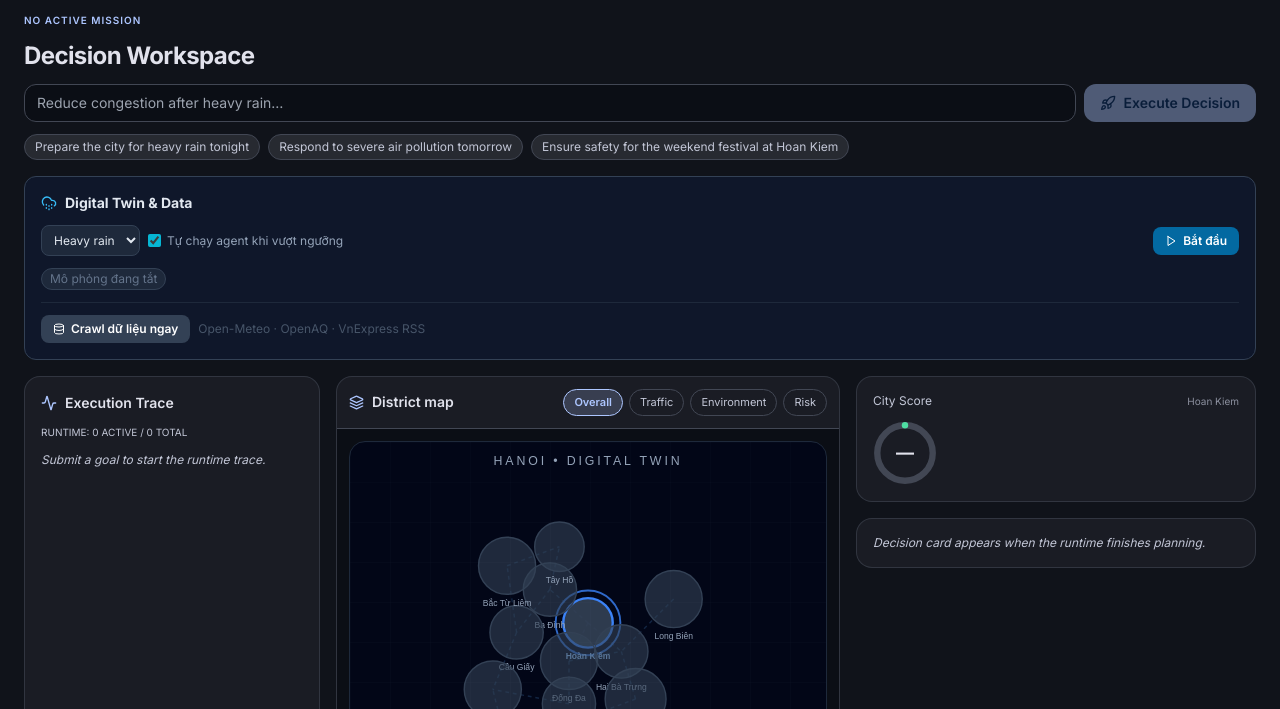
Scenario: DecisionWorkspacePage › opens the evidence modal when the Evidence tile is clicked, and closes it via the close button
Type "Reduce congestion after rain" into the field with placeholder "Reduce congestion after heavy rain…" at coordinates (550, 103), box [24,84,1076,122]
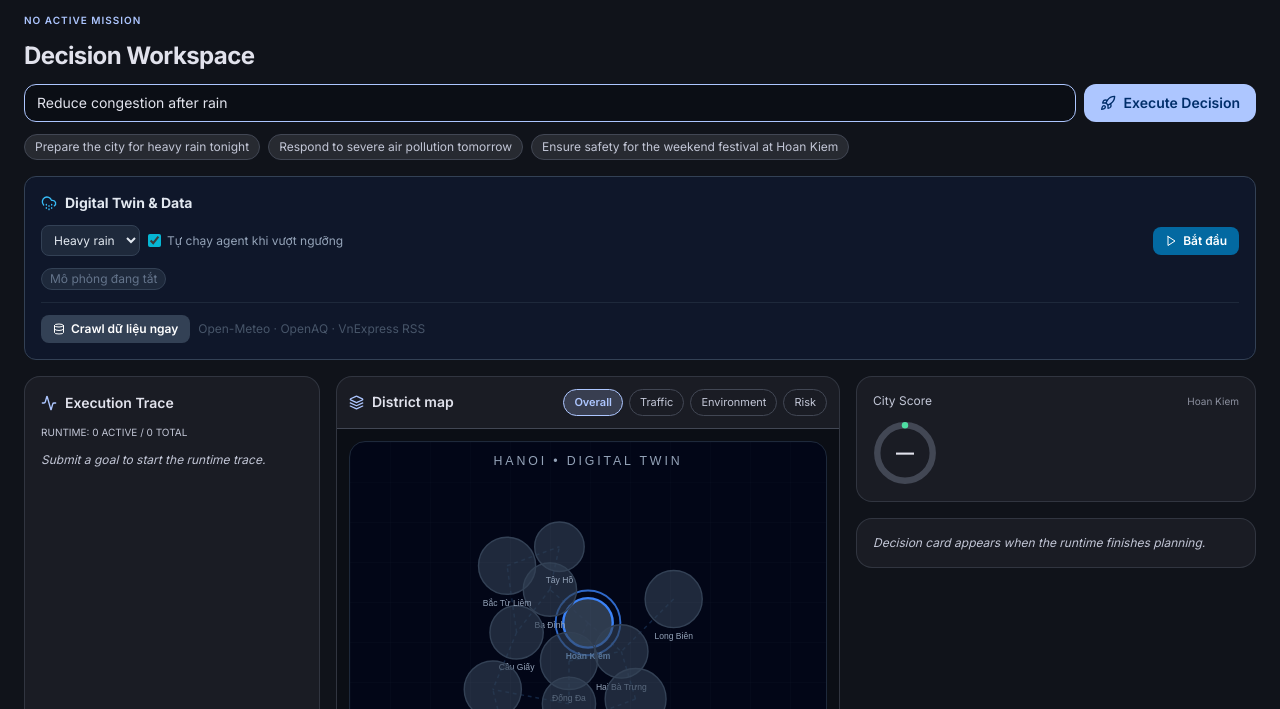
Click the button "Execute Decision" at coordinates (1170, 103), box [1084,84,1256,122]
(page scrolled)
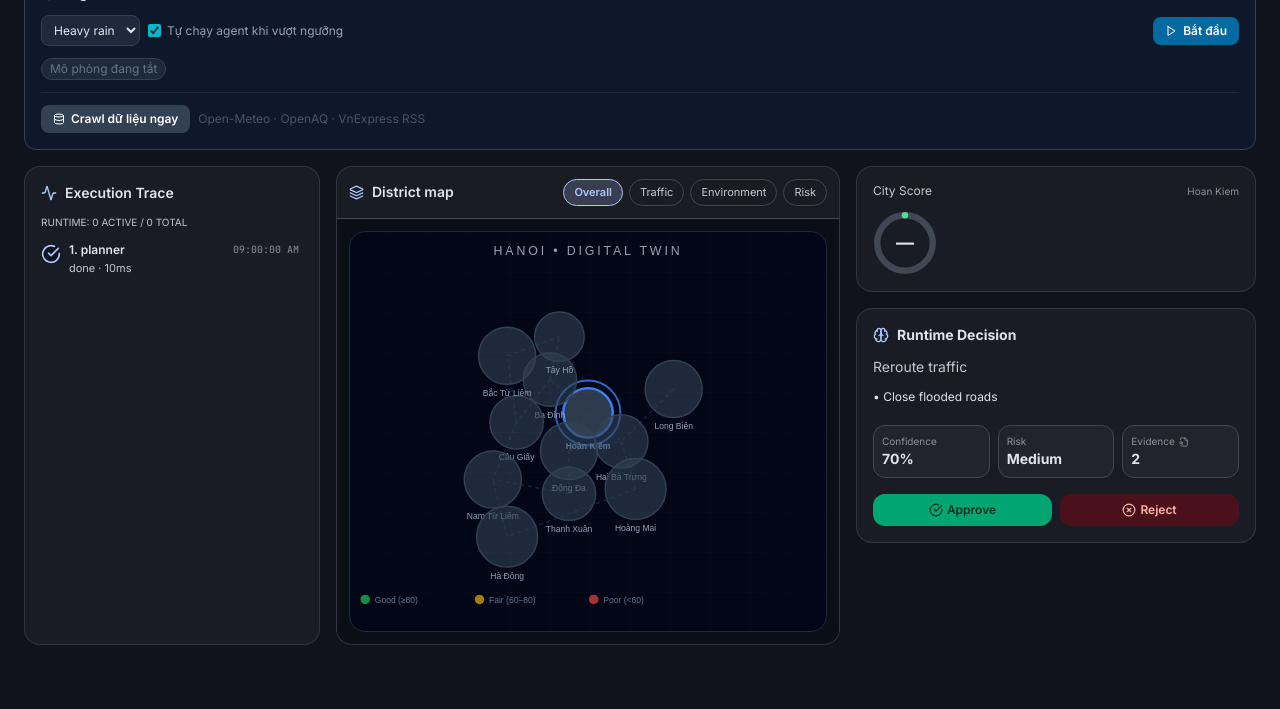
Expected: the button with test id "decision-evidence-toggle" is shown
Click the button with test id "decision-evidence-toggle" at coordinates (1181, 452), box [1122,425,1239,478]
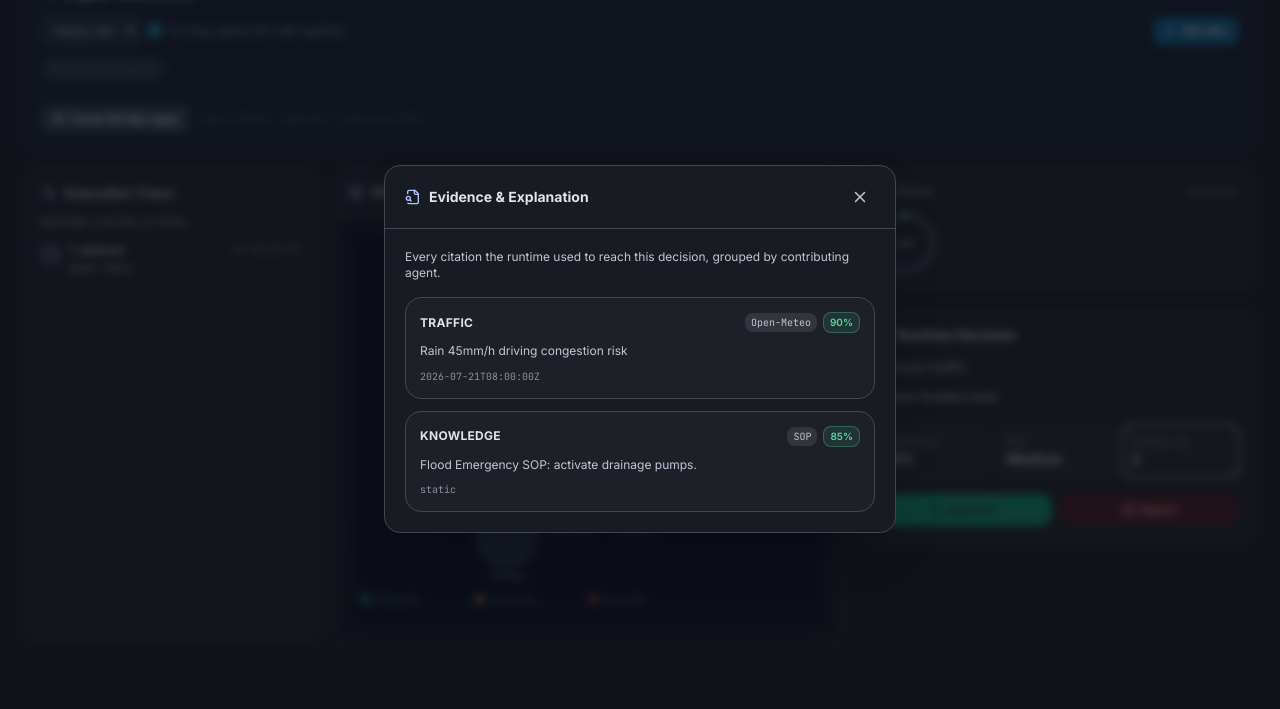
Expected: the dialog with test id "decision-evidence-modal" is shown, [384,165,896,533]
Expected: the list with test id "decision-evidence-list" shows "Rain 45mm/h driving congestion risk", [420,343,628,358]
Expected: the list with test id "decision-evidence-list" shows "Flood Emergency SOP: activate drainage pumps.", [420,456,697,472]
Click the button named "Close" at coordinates (860, 197), box [845,182,875,212]
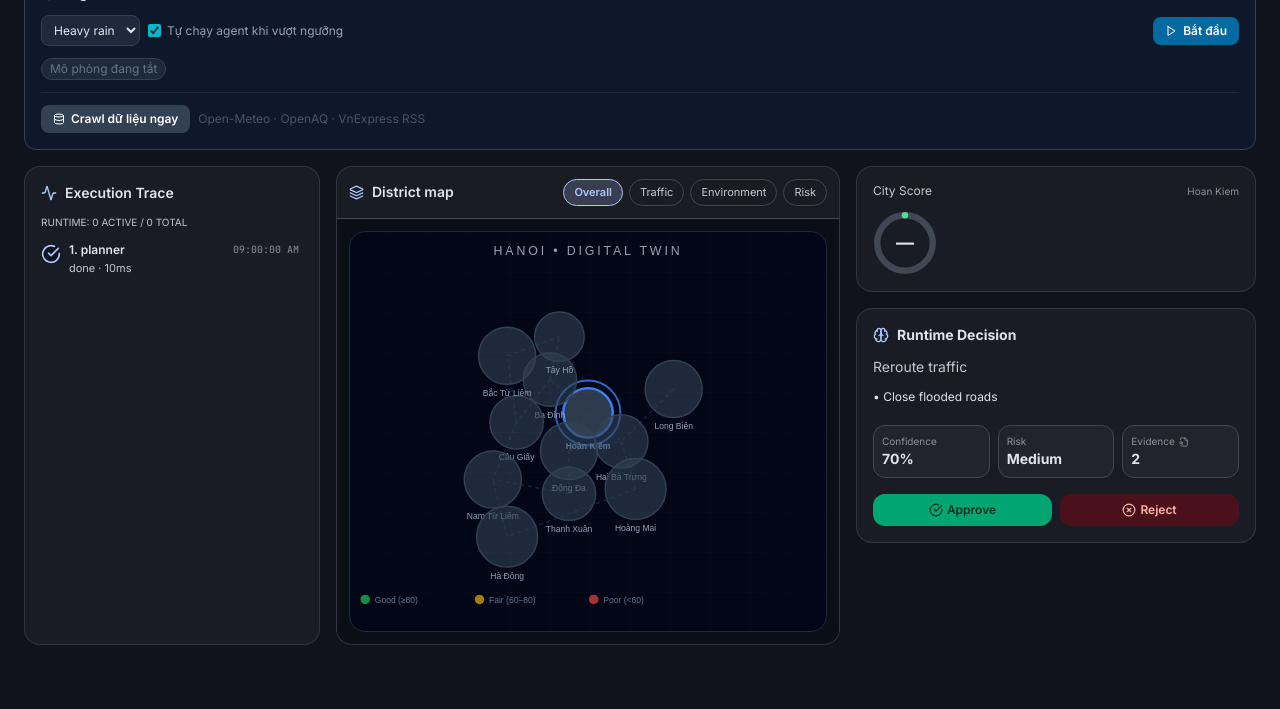
Expected: the dialog with test id "decision-evidence-modal" is gone
